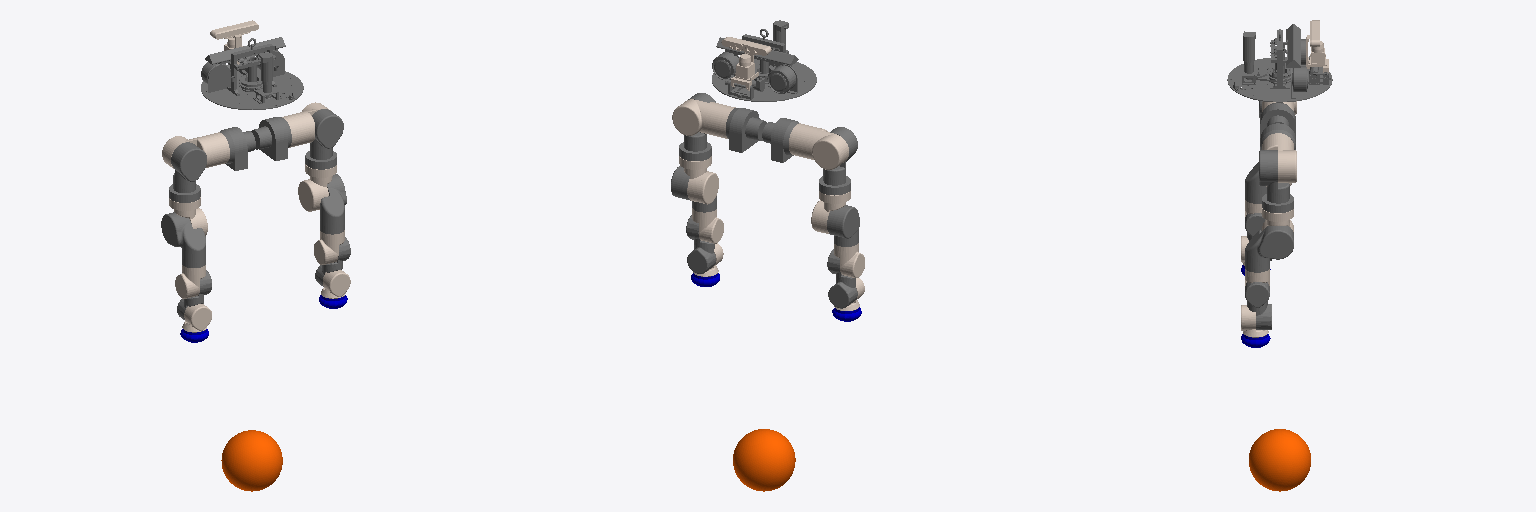
URDF robot description (ballbot):
<?xml version="1.0" encoding="utf-8"?>
<!-- =================================================================================== -->
<!-- |    This document was autogenerated by xacro from ballbot_plus_fb.urdf.xacro     | -->
<!-- |    EDITING THIS FILE BY HAND IS NOT RECOMMENDED                                 | -->
<!-- =================================================================================== -->
<!-- Overview: Ballbot Plus (ballbot + 2x7DOF arms) reprsented as a floating base system -->
<robot name="ballbot">
  <!-- CAD -->
  <material name="black">
    <color rgba="0.0 0.0 0.0 1.0"/>
  </material>
  <material name="blue">
    <color rgba="0.0 0.0 0.8 1.0"/>
  </material>
  <material name="green">
    <color rgba="0.0 0.8 0.0 1.0"/>
  </material>
  <material name="dark_grey">
    <color rgba="0.2 0.2 0.2 1.0"/>
  </material>
  <material name="grey">
    <color rgba="0.5 0.5 0.5 1.0"/>
  </material>
  <material name="light_grey">
    <color rgba="0.8 0.8 0.8 1.0"/>
  </material>
  <material name="orange">
    <color rgba="1.0 0.423529411765 0.0392156862745 1.0"/>
  </material>
  <material name="brown">
    <color rgba="0.870588235294 0.811764705882 0.764705882353 1.0"/>
  </material>
  <material name="white">
    <color rgba="1.0 1.0 1.0 1.0"/>
  </material>
  <material name="yellow">
    <color rgba="0.8 0.68 0 1"/>
  </material>
  <material name="red">
    <color rgba="1.0 0.0 0.0 1"/>
  </material>
  <material name="aluminum">
    <color rgba="0.5 0.5 0.5 1"/>
  </material>
  <!-- Use of macros to assemble the robot -->
  <link name="Link_Body">
    <inertial>
      <origin xyz="0.0 0.0 0.808338"/>
      <mass value="64.86"/>
      <inertia ixx="10.61648" ixy="0.00000" ixz="0.00000" iyy="10.61648" iyz="0.00000" izz="0.66440"/>
    </inertial>
    <visual>
      <origin rpy="0 0 1.5707963268" xyz="0 0 0.105838"/>
      <geometry>
        <mesh filename="package://ballbot_arm_description/meshes/v2020_dae/ballbot_body_v2021.dae"/>
      </geometry>
      <material name="yellow"/>
    </visual>
    <collision>
      <origin rpy="0 0 1.5707963268" xyz="0 0 0.7025"/>
      <geometry>
        <cylinder length="1.405" radius="0.184"/>
      </geometry>
    </collision>
  </link>
  <joint name="JBodytoBall" type="fixed">
    <origin rpy="0.0 0.0 0.0" xyz="0.0 0.0 0.0"/>
    <parent link="Link_Body"/>
    <child link="Link_Ball"/>
    <!-- <limit  velocity="1.0"/> -->
    <axis xyz="0 0 1"/>
  </joint>
  <link name="Link_Ball">
    <inertial>
      <origin xyz="0.0 0.0 0.105838"/>
      <mass value="2.72"/>
      <inertia ixx="0.01220" ixy="0.00000" ixz="0.00000" iyy="0.01220" iyz="0.00000" izz="0.01220"/>
    </inertial>
    <visual>
      <origin rpy="0.0 0.0 0.0" xyz="0.0 0.0 0.105838"/>
      <geometry>
        <mesh filename="package://ballbot_arm_description/meshes/v2020_dae/ball.dae"/>
      </geometry>
      <material name="orange"/>
    </visual>
    <collision>
      <origin rpy="0 0 0" xyz="0 0 0.105838"/>
      <geometry>
        <mesh filename="package://ballbot_arm_description/meshes/v2020_dae/ball.dae"/>
      </geometry>
    </collision>
  </link>
  <joint name="turret_pan" type="fixed">
    <origin rpy="0 0 1.5707963268" xyz="0 0 1.510838"/>
    <parent link="Link_Body"/>
    <child link="turret_plate_link"/>
    <limit effort="1000." lower="-6.1" upper="6.1" velocity="1.0"/>
    <axis xyz="0 0 1"/>
    <dynamics damping="1.0" friction="1.0"/>
  </joint>
  <link name="turret_plate_link">
    <visual>
      <origin rpy="0 0 0" xyz="0.0 0.0 0.0"/>
      <geometry>
        <mesh filename="package://ballbot_arm_description/meshes/v2020_dae/turret_pan.dae"/>
      </geometry>
      <material name="grey"/>
    </visual>
    <inertial>
      <origin xyz="0.0 0.0 0.0"/>
      <mass value="0.0"/>
      <inertia ixx="0.0" ixy="0.00000" ixz="0.00000" iyy="0.0" iyz="0.00000" izz="0.0"/>
    </inertial>
  </link>
  <joint name="turret_tilt" type="fixed">
    <origin rpy="1.5707963268 0 3.14159265359" xyz="0.15557 -0.0347980 0.0541020"/>
    <parent link="turret_plate_link"/>
    <child link="turret_tilt_link"/>
    <limit effort="1000.0" lower="-0.05" upper="1.5707963268" velocity="1.0"/>
    <axis xyz="0 0 1"/>
    <dynamics damping="1.0" friction="1.0"/>
  </joint>
  <link name="turret_tilt_link">
    <visual>
      <origin rpy="0 0 0" xyz="0.0 0.0 0.0"/>
      <geometry>
        <mesh filename="package://ballbot_arm_description/meshes/v2020_dae/turret_tilt.dae"/>
      </geometry>
      <material name="brown"/>
    </visual>
    <inertial>
      <origin xyz="0.0 0.0 0.0"/>
      <mass value="0.0"/>
      <inertia ixx="0.0" ixy="0.00000" ixz="0.00000" iyy="0.0" iyz="0.00000" izz="0.0"/>
    </inertial>
  </link>
  <!-- ====================================== -->
  <!-- Right Arm -->
  <joint name="JRA0" type="fixed">
    <!--origin xyz="-0.00635 -0.12314 1.32915" rpy="${-PI/2} ${-PI/2} ${PI}"/-->
    <origin rpy="-1.5707963268 -1.5707963268 -1.5707963268" xyz="0.12314 -0.00635 1.32915"/>
    <parent link="Link_Body"/>
    <child link="RArm0"/>
    <axis xyz="0 0 1"/>
    <dynamics damping="1.0" friction="1.0"/>
  </joint>
  <link name="RArm0">
    <inertial>
      <origin rpy="0 0 0" xyz="-0.00832 0.0 -0.0418"/>
      <mass value="2.367"/>
      <inertia ixx="0.00366" ixy="0.0" ixz="-0.0000208" iyy="0.00398" iyz="0.0" izz="0.00461"/>
    </inertial>
    <visual>
      <origin rpy="0 0 0" xyz="0 0 0"/>
      <geometry>
        <mesh filename="package://ballbot_arm_description/meshes/link_base.obj"/>
      </geometry>
      <material name="grey"/>
    </visual>
    <collision>
      <origin rpy="0 0 0" xyz="0 0 0"/>
      <geometry>
        <mesh filename="package://ballbot_arm_description/meshes/link_base.obj"/>
      </geometry>
    </collision>
  </link>
  <link name="RArm1">
    <inertial>
      <origin xyz="0.0 0.00329 0.0865"/>
      <mass value="4.181"/>
      <inertia ixx="0.0172" ixy="0.0000173" ixz="0.0" iyy="0.0170" iyz="-0.000935" izz="0.00602"/>
    </inertial>
    <visual>
      <origin rpy="0 0 3.14159265359" xyz="0.0 0.0 0.0"/>
      <geometry>
        <mesh filename="package://ballbot_arm_description/meshes/v2020_dae/link_shoulder_2_base.dae"/>
      </geometry>
      <material name="brown"/>
    </visual>
    <collision>
      <origin rpy="0 0 0" xyz="0.0 0.0 -0.05525"/>
      <geometry>
        <cylinder length="0.1105" radius="0.05"/>
      </geometry>
    </collision>
  </link>
  <link name="RArm2">
    <inertial>
      <origin xyz="-0.123 0.000 -0.0507"/>
      <mass value="1.832"/>
      <inertia ixx="0.00241" ixy="0.0" ixz="-0.000742" iyy="0.00559" iyz="0.0" izz="0.00563"/>
    </inertial>
    <visual>
      <origin rpy="0 0 0" xyz="0.0 0.0 0.0"/>
      <geometry>
        <mesh filename="package://ballbot_arm_description/meshes/v2020_dae/link_shoulder_2_uparm.dae"/>
      </geometry>
      <material name="grey"/>
    </visual>
    <collision>
      <origin rpy="0 0 0" xyz="0.0 0.0 -0.05525"/>
      <geometry>
        <cylinder length="0.1105" radius="0.05"/>
      </geometry>
    </collision>
  </link>
  <link name="RArm3">
    <inertial>
      <origin xyz="0.0 -0.00963 0.0773"/>
      <mass value="1.821"/>
      <inertia ixx="0.00375" ixy="0.0" ixz="0.0" iyy="0.00338" iyz="0.000169" izz="0.00278"/>
    </inertial>
    <visual>
      <origin rpy="0 0 0" xyz="0.0 0.0 -0.02718"/>
      <geometry>
        <mesh filename="package://ballbot_arm_description/meshes/v2020_dae/link_upperarm.dae"/>
      </geometry>
      <material name="brown"/>
    </visual>
    <collision>
      <origin rpy="0 0 0" xyz="0.0 0.0 -0.05525"/>
      <geometry>
        <cylinder length="0.1105" radius="0.05"/>
      </geometry>
    </collision>
  </link>
  <link name="RArm4">
    <inertial>
      <origin xyz="-0.0758 0.0594 -0.0448"/>
      <mass value="1.105"/>
      <inertia ixx="0.00186" ixy="0.000915" ixz="-0.000456" iyy="0.00276" iyz="0.000276" izz="0.00356"/>
    </inertial>
    <visual>
      <origin rpy="0 0 0" xyz="0.0 0.0 0.0"/>
      <geometry>
        <mesh filename="package://ballbot_arm_description/meshes/v2020_dae/link_forearm_r.dae"/>
      </geometry>
      <material name="grey"/>
    </visual>
    <collision>
      <origin rpy="0 0 0" xyz="0.0 0.0 -0.05525"/>
      <geometry>
        <cylinder length="0.1105" radius="0.05"/>
      </geometry>
    </collision>
  </link>
  <link name="RArm5">
    <inertial>
      <origin xyz="-0.00147 0.0 -0.0537"/>
      <mass value="0.973"/>
      <inertia ixx="0.00106" ixy="0.0" ixz="-0.0000188" iyy="0.00123" iyz="0.0" izz="0.00101"/>
    </inertial>
    <visual>
      <origin rpy="0 0 0" xyz="0.0 0.0 0.0"/>
      <geometry>
        <mesh filename="package://ballbot_arm_description/meshes/v2020_dae/link_forearm_2_wrist.dae"/>
      </geometry>
      <material name="brown"/>
    </visual>
    <collision>
      <origin rpy="0 0 0" xyz="0.0 0.0 0.0495"/>
      <geometry>
        <cylinder length="0.099" radius="0.0375"/>
      </geometry>
    </collision>
  </link>
  <link name="RArm6">
    <inertial>
      <origin xyz="0.0947 0.00543 0.0386"/>
      <mass value="1.013"/>
      <inertia ixx="0.00106" ixy="-0.0000831" ixz="-0.000236" iyy="0.00193" iyz="-0.0000139" izz="0.00215"/>
    </inertial>
    <visual>
      <origin rpy="0 0 0" xyz="0.0 0.0 0.0"/>
      <geometry>
        <mesh filename="package://ballbot_arm_description/meshes/v2020_dae/link_wrist_mid.dae"/>
      </geometry>
      <material name="grey"/>
    </visual>
    <collision>
      <origin rpy="0 0 0" xyz="0.0 0.0 0.0495"/>
      <geometry>
        <cylinder length="0.099" radius="0.0375"/>
      </geometry>
    </collision>
  </link>
  <link name="RArm7">
    <inertial>
      <origin xyz="0.0235 -0.000000178 0.0295"/>
      <mass value="0.195"/>
      <inertia ixx="0.000257" ixy="0.0" ixz="-0.0000691" iyy="0.000325" iyz="0.0" izz="0.000362"/>
    </inertial>
    <visual>
      <origin rpy="0 0 0" xyz="0.0 0.0 0.0"/>
      <geometry>
        <mesh filename="package://ballbot_arm_description/meshes/v2020_dae/link_wrist_2_hand.dae"/>
      </geometry>
      <material name="brown"/>
    </visual>
    <collision>
      <origin rpy="0 0 0" xyz="0.0 0.0 0.0495"/>
      <geometry>
        <cylinder length="0.099" radius="0.0375"/>
      </geometry>
    </collision>
  </link>
  <joint name="JRA1" type="revolute">
    <origin rpy="0.0 0.0 0.0" xyz="0.0 0.0 0.0"/>
    <parent link="RArm0"/>
    <child link="RArm1"/>
    <limit effort="30.0" lower="-2.96705972839" upper="2.96705972839" velocity="3.0"/>
    <axis xyz="0 0 1"/>
    <dynamics damping="0.7" friction="0.5"/>
  </joint>
  <joint name="JRA2" type="revolute">
    <origin rpy="-1.5707963705062866 0.0 -0.0" xyz="0.00000 0.05436 0.14900"/>
    <parent link="RArm1"/>
    <child link="RArm2"/>
    <limit effort="30.0" lower="-0.0349065850399" upper="1.5707963268" velocity="3.0"/>
    <axis xyz="0 0 1"/>
    <dynamics damping="0.7" friction="0.5"/>
  </joint>
  <joint name="JRA3" type="revolute">
    <origin rpy="3.141592653589793 -1.570796282091413 3.141592653589793" xyz="-0.17786 0.00000 -0.05436"/>
    <parent link="RArm2"/>
    <child link="RArm3"/>
    <limit effort="30.0" lower="-1.5707963268" upper="1.5707963268" velocity="3.0"/>
    <axis xyz="0 0 1"/>
    <dynamics damping="0.7" friction="0.5"/>
  </joint>
  <joint name="JRA4" type="revolute">
    <origin rpy="-2.3561944901923457 1.5707962635746238 2.3561944901923457" xyz="0.00000 -0.05436 0.08522"/>
    <parent link="RArm3"/>
    <child link="RArm4"/>
    <limit effort="30.0" lower="-0.349065850399" upper="2.79252680319" velocity="3.0"/>
    <axis xyz="0 0 1"/>
    <dynamics damping="0.7" friction="0.5"/>
  </joint>
  <joint name="JRA5" type="revolute">
    <origin rpy="0 1.5707963268 0" xyz="-0.13200 0.07000 -0.05073"/>
    <parent link="RArm4"/>
    <child link="RArm5"/>
    <limit effort="30.0" lower="-2.82743338823" upper="2.82743338823" velocity="3.0"/>
    <axis xyz="0 0 1"/>
    <dynamics damping="0.7" friction="0.5"/>
  </joint>
  <joint name="JRA6" type="revolute">
    <origin rpy="0 1.5707963268 0" xyz="-0.04115 0.0 -0.06"/>
    <parent link="RArm5"/>
    <child link="RArm6"/>
    <limit effort="30.0" lower="-1.49599650171" upper="1.49599650171" velocity="3.0"/>
    <axis xyz="0 0 1"/>
    <dynamics damping="0.7" friction="0.5"/>
  </joint>
  <joint name="JRA7" type="revolute">
    <origin rpy="1.5707963268 0.0 0.0" xyz="0.10750 0.04650 0.041150"/>
    <parent link="RArm6"/>
    <child link="RArm7"/>
    <limit effort="30.0" lower="-1.49599650171" upper="1.49599650171" velocity="3.0"/>
    <axis xyz="0 0 1"/>
    <dynamics damping="0.7" friction="0.5"/>
  </joint>
  <link name="toolR">
    <inertial>
      <origin xyz="0.0 0.0 0.0"/>
      <mass value="0.241"/>
      <inertia ixx="0.00001" ixy="0.0" ixz="0.0" iyy="0.00001" iyz="0.0" izz="0.00001"/>
    </inertial>
  </link>
  <joint name="RArm7-toolR" type="fixed">
    <origin rpy="0 1.5707963268 0" xyz="0.055 0 0.04065"/>
    <axis xyz="0 0 1"/>
    <parent link="RArm7"/>
    <child link="toolR"/>
  </joint>
  <joint name="JR_KnobHand" type="fixed">
    <origin rpy="0. 0. 0." xyz="0. 0. 0."/>
    <axis xyz="0 0 1"/>
    <parent link="toolR"/>
    <child link="R_knobhand_link"/>
  </joint>
  <link name="R_knobhand_link">
    <visual>
      <origin rpy="0 0 0" xyz="0 0 0"/>
      <geometry>
        <mesh filename="package://ballbot_arm_description/meshes/endeffectors/knob_hand.stl"/>
      </geometry>
      <material name="blue"/>
    </visual>
    <collision>
      <origin rpy="0 0 0" xyz="0 0 0"/>
      <geometry>
        <mesh filename="package://ballbot_arm_description/meshes/endeffectors/knob_hand.stl"/>
      </geometry>
    </collision>
    <inertial>
      <origin rpy="0 0 0" xyz="0.0 0.0 0.0235592"/>
      <mass value="0.134"/>
      <inertia ixx="3.311269" ixy="0.0" ixz="0.0" iyy="3.311269" iyz="0.0" izz="2.919272"/>
    </inertial>
  </link>
  <!-- ====================================== -->
  <!-- Left Arm-->
  <joint name="JLA0" type="fixed">
    <origin rpy="1.5707963268 -1.5707963268 -1.5707963268" xyz="-0.12314 -0.00635 1.32915"/>
    <parent link="Link_Body"/>
    <child link="LArm0"/>
    <axis xyz="0 0 1"/>
  </joint>
  <link name="LArm0">
    <inertial>
      <origin rpy="0 0 0" xyz="-0.00832 0.0 -0.0418"/>
      <mass value="2.367"/>
      <inertia ixx="0.00366" ixy="0.0" ixz="-0.0000208" iyy="0.00398" iyz="0.0" izz="0.00461"/>
    </inertial>
    <visual>
      <origin rpy="0 0 0" xyz="0 0 0"/>
      <geometry>
        <mesh filename="package://ballbot_arm_description/meshes/v2020_dae/link_base.dae"/>
      </geometry>
      <material name="grey"/>
    </visual>
    <collision>
      <origin rpy="0 0 0" xyz="0 0 0"/>
      <geometry>
        <mesh filename="package://ballbot_arm_description/meshes/v2020_dae/link_base.dae"/>
      </geometry>
    </collision>
  </link>
  <link name="LArm1">
    <inertial>
      <origin xyz="0.0 0.00329 0.0865"/>
      <mass value="4.181"/>
      <inertia ixx="0.0172" ixy="0.0000173" ixz="0.0" iyy="0.0170" iyz="-0.000935" izz="0.00602"/>
    </inertial>
    <visual>
      <origin rpy="0 0 0" xyz="0.0 0.0 0.0"/>
      <geometry>
        <mesh filename="package://ballbot_arm_description/meshes/v2020_dae/link_shoulder_2_base.dae"/>
      </geometry>
      <material name="brown"/>
    </visual>
    <collision>
      <origin rpy="0 0 0" xyz="0.0 0.0 -0.05525"/>
      <geometry>
        <cylinder length="0.1105" radius="0.05"/>
      </geometry>
      <material name="blue"/>
    </collision>
  </link>
  <link name="LArm2">
    <inertial>
      <origin xyz="-0.123 0.000 -0.0507"/>
      <mass value="1.832"/>
      <inertia ixx="0.00241" ixy="0.0" ixz="-0.000742" iyy="0.00559" iyz="0.0" izz="0.00563"/>
    </inertial>
    <visual>
      <origin rpy="0 0 0" xyz="0.0 0.0 0.0"/>
      <geometry>
        <mesh filename="package://ballbot_arm_description/meshes/v2020_dae/link_shoulder_2_uparm.dae"/>
      </geometry>
      <material name="grey"/>
    </visual>
    <collision>
      <origin rpy="0 0 0" xyz="0.0 0.0 -0.05525"/>
      <geometry>
        <cylinder length="0.1105" radius="0.05"/>
      </geometry>
      <material name="blue"/>
    </collision>
  </link>
  <link name="LArm3">
    <inertial>
      <origin xyz="0.0 -0.00963 0.0773"/>
      <mass value="1.821"/>
      <inertia ixx="0.00375" ixy="0.0" ixz="0.0" iyy="0.00338" iyz="0.000169" izz="0.00278"/>
    </inertial>
    <visual>
      <origin rpy="0 0 0" xyz="0.0 0.0 -0.02718"/>
      <geometry>
        <mesh filename="package://ballbot_arm_description/meshes/v2020_dae/link_upperarm.dae"/>
      </geometry>
      <material name="brown"/>
    </visual>
    <collision>
      <origin rpy="0 0 0" xyz="0.0 0.0 -0.05525"/>
      <geometry>
        <cylinder length="0.1105" radius="0.05"/>
      </geometry>
      <material name="blue"/>
    </collision>
  </link>
  <link name="LArm4">
    <inertial>
      <origin xyz="-0.0758 -0.0594 -0.0448"/>
      <mass value="1.105"/>
      <inertia ixx="0.00186" ixy="-0.000915" ixz="-0.000456" iyy="0.00276" iyz="-0.000276" izz="0.00356"/>
    </inertial>
    <visual>
      <origin rpy="0 0 0" xyz="0.0 0.0 0.0"/>
      <geometry>
        <mesh filename="package://ballbot_arm_description/meshes/v2020_dae/link_forearm.dae"/>
      </geometry>
      <material name="grey"/>
    </visual>
    <collision>
      <origin rpy="0 0 0" xyz="0.0 0.0 -0.05525"/>
      <geometry>
        <cylinder length="0.1105" radius="0.05"/>
      </geometry>
      <material name="blue"/>
    </collision>
  </link>
  <link name="LArm5">
    <inertial>
      <origin xyz="-0.00147 0.0 -0.0537"/>
      <mass value="0.973"/>
      <inertia ixx="0.00106" ixy="0.0" ixz="-0.0000188" iyy="0.00123" iyz="0.0" izz="0.00101"/>
    </inertial>
    <visual>
      <origin rpy="0 0 0" xyz="0.0 0.0 0.0"/>
      <geometry>
        <mesh filename="package://ballbot_arm_description/meshes/v2020_dae/link_forearm_2_wrist.dae"/>
      </geometry>
      <material name="brown"/>
    </visual>
    <collision>
      <origin rpy="0 0 0" xyz="0.0 0.0 0.0495"/>
      <geometry>
        <cylinder length="0.099" radius="0.0375"/>
      </geometry>
      <material name="blue"/>
    </collision>
  </link>
  <link name="LArm6">
    <inertial>
      <origin xyz="0.0947 0.00543 0.0386"/>
      <mass value="1.013"/>
      <inertia ixx="0.00106" ixy="-0.0000831" ixz="-0.000236" iyy="0.00193" iyz="-0.0000139" izz="0.00215"/>
    </inertial>
    <visual>
      <origin rpy="0 0 0" xyz="0.0 0.0 0.0"/>
      <geometry>
        <mesh filename="package://ballbot_arm_description/meshes/v2020_dae/link_wrist_mid.dae"/>
      </geometry>
      <material name="grey"/>
    </visual>
    <collision>
      <origin rpy="0 0 0" xyz="0.0 0.0 0.0495"/>
      <geometry>
        <cylinder length="0.099" radius="0.0375"/>
      </geometry>
      <material name="blue"/>
    </collision>
  </link>
  <link name="LArm7">
    <inertial>
      <origin xyz="0.0235 -0.000000178 0.0295"/>
      <mass value="0.195"/>
      <inertia ixx="0.000257" ixy="0.0" ixz="-0.0000691" iyy="0.000325" iyz="0.0" izz="0.000362"/>
    </inertial>
    <visual>
      <origin rpy="0 0 0" xyz="0.0 0.0 0.0"/>
      <geometry>
        <mesh filename="package://ballbot_arm_description/meshes/v2020_dae/link_wrist_2_hand.dae"/>
      </geometry>
      <material name="brown"/>
    </visual>
    <collision>
      <origin rpy="0 0 0" xyz="0.0 0.0 0.0495"/>
      <geometry>
        <cylinder length="0.099" radius="0.0375"/>
      </geometry>
      <material name="blue"/>
    </collision>
  </link>
  <joint name="JLA1" type="revolute">
    <origin rpy="0.0 0.0 0.0" xyz="0.0 0.0 0.0"/>
    <parent link="LArm0"/>
    <child link="LArm1"/>
    <limit effort="30.0" lower="-2.96705972839" upper="2.96705972839" velocity="3.0"/>
    <axis xyz="0 0 1"/>
    <dynamics damping="0.7" friction="0.5"/>
  </joint>
  <joint name="JLA2" type="revolute">
    <origin rpy="1.5707963705062866 -0.0 0.0" xyz="0.00000 -0.05436 0.14900"/>
    <parent link="LArm1"/>
    <child link="LArm2"/>
    <limit effort="30.0" lower="-1.5707963268" upper="0.0349065850399" velocity="3.0"/>
    <axis xyz="0 0 1"/>
    <dynamics damping="0.7" friction="0.5"/>
  </joint>
  <joint name="JLA3" type="revolute">
    <origin rpy="2.0344439357957036 1.5707962290814481 -1.1071487177940917" xyz="-0.17786 0.00000 -0.05436"/>
    <parent link="LArm2"/>
    <child link="LArm3"/>
    <limit effort="30.0" lower="-1.5707963268" upper="1.5707963268" velocity="3.0"/>
    <axis xyz="0 0 1"/>
    <dynamics damping="0.7" friction="0.5"/>
  </joint>
  <joint name="JLA4" type="revolute">
    <origin rpy="-2.3561944901923457 1.5707962635746238 2.3561944901923457" xyz="0.00000 -0.05436 0.08522"/>
    <parent link="LArm3"/>
    <child link="LArm4"/>
    <limit effort="30.0" lower="-2.79252680319" upper="0.349065850399" velocity="3.0"/>
    <axis xyz="0 0 1"/>
    <dynamics damping="0.7" friction="0.5"/>
  </joint>
  <joint name="JLA5" type="revolute">
    <origin rpy="-1.5707963268 -1.5707963268 -1.5707963268" xyz="-0.13200 -0.07000 -0.05073"/>
    <parent link="LArm4"/>
    <child link="LArm5"/>
    <limit effort="30.0" lower="-2.82743338823" upper="2.82743338823" velocity="3.0"/>
    <axis xyz="0 0 1"/>
    <dynamics damping="0.7" friction="0.5"/>
  </joint>
  <joint name="JLA6" type="revolute">
    <origin rpy="0 1.5707963268 0" xyz="-0.041150 0.0 -0.06000"/>
    <parent link="LArm5"/>
    <child link="LArm6"/>
    <limit effort="30.0" lower="-1.49599650171" upper="1.49599650171" velocity="3.0"/>
    <axis xyz="0 0 1"/>
    <dynamics damping="0.7" friction="0.5"/>
  </joint>
  <joint name="JLA7" type="revolute">
    <origin rpy="1.5707963268 0.0 0.0" xyz="0.10750 0.04650 0.041150"/>
    <parent link="LArm6"/>
    <child link="LArm7"/>
    <limit effort="30.0" lower="-1.49599650171" upper="1.49599650171" velocity="3.0"/>
    <axis xyz="0 0 1"/>
    <dynamics damping="0.7" friction="0.5"/>
  </joint>
  <link name="toolL">
    <inertial>
      <origin xyz="0.0 0.0 0.0"/>
      <mass value="0.241"/>
      <inertia ixx="0.00001" ixy="0.0" ixz="0.0" iyy="0.00001" iyz="0.0" izz="0.00001"/>
    </inertial>
  </link>
  <joint name="LArm7-toolL" type="fixed">
    <origin rpy="0 1.5707963268 0" xyz="0.055 0 0.04065"/>
    <axis xyz="0 0 1"/>
    <parent link="LArm7"/>
    <child link="toolL"/>
  </joint>
  <joint name="JL_KnobHand" type="fixed">
    <origin rpy="0. 0. 0." xyz="0. 0. 0."/>
    <axis xyz="0 0 1"/>
    <parent link="toolL"/>
    <child link="L_knobhand_link"/>
  </joint>
  <link name="L_knobhand_link">
    <visual>
      <origin rpy="0 0 0" xyz="0 0 0"/>
      <geometry>
        <mesh filename="package://ballbot_arm_description/meshes/endeffectors/knob_hand.stl"/>
      </geometry>
      <material name="blue"/>
    </visual>
    <collision>
      <origin rpy="0 0 0" xyz="0 0 0"/>
      <geometry>
        <mesh filename="package://ballbot_arm_description/meshes/endeffectors/knob_hand.stl"/>
      </geometry>
    </collision>
    <inertial>
      <origin rpy="0 0 0" xyz="0.0 0.0 0.0235592"/>
      <mass value="0.134"/>
      <inertia ixx="3.311269" ixy="0.0" ixz="0.0" iyy="3.311269" iyz="0.0" izz="2.919272"/>
    </inertial>
  </link>
</robot>

--- Render facts (derived) ---
The picture shows the robot from 3 angles, left to right: view 1: azimuth 30°, elevation 25°; view 2: azimuth 150°, elevation 25°; view 3: azimuth 270°, elevation 25°; orthographic projection.
Model ballbot with 24 links and 23 joints (14 revolute, 9 fixed), rooted at Link_Body, posed every joint at zero.
Links seen in each view (by area): view 1: turret_plate_link, Link_Ball, LArm2, LArm4, RArm2, RArm0, RArm4, LArm1, RArm3, LArm0, RArm1, RArm5 (+5 smaller); view 2: turret_plate_link, Link_Ball, LArm1, RArm1, RArm0, RArm3, turret_tilt_link, LArm2, LArm4, LArm0, RArm6, LArm6 (+5 smaller); view 3: turret_plate_link, Link_Ball, RArm4, RArm2, RArm1, RArm6, turret_tilt_link, LArm0, LArm4.
Boxes of the visible links, x1,y1,x2,y2 form: turret_plate_link: (201, 37, 303, 109); Link_Ball: (221, 430, 282, 491); LArm2: (169, 142, 206, 202); LArm4: (161, 212, 205, 267); RArm2: (305, 109, 343, 169); RArm0: (251, 117, 291, 160); RArm4: (320, 174, 346, 234); LArm1: (162, 132, 229, 168); RArm3: (298, 164, 336, 211); LArm0: (220, 127, 255, 170); RArm1: (282, 102, 330, 147); RArm5: (314, 230, 344, 264); turret_plate_link: (712, 20, 816, 101); Link_Ball: (733, 429, 795, 491); LArm1: (789, 123, 848, 169); RArm1: (672, 99, 735, 138); RArm0: (726, 108, 766, 152); RArm3: (679, 156, 718, 204); turret_tilt_link: (721, 37, 771, 90); LArm2: (819, 127, 857, 195); LArm4: (827, 205, 859, 246); LArm0: (762, 118, 798, 162); RArm6: (686, 215, 715, 273); LArm6: (827, 249, 857, 308); turret_plate_link: (1227, 24, 1332, 102); Link_Ball: (1249, 429, 1310, 491); RArm4: (1245, 226, 1293, 272); RArm2: (1259, 150, 1293, 212); RArm1: (1262, 133, 1296, 182); RArm6: (1245, 282, 1271, 329); turret_tilt_link: (1306, 20, 1328, 72); LArm0: (1260, 102, 1295, 137); LArm4: (1245, 162, 1266, 203).
Bounding box of the posed robot: 0.676 × 0.3556 × 1.71 m (x, y, z).
21 mesh visuals loaded from 15 distinct referenced files (1 binary STL, 12 Collada DAE, 1 OBJ); not drawn: 1 (reference not matched to a file when rendering).